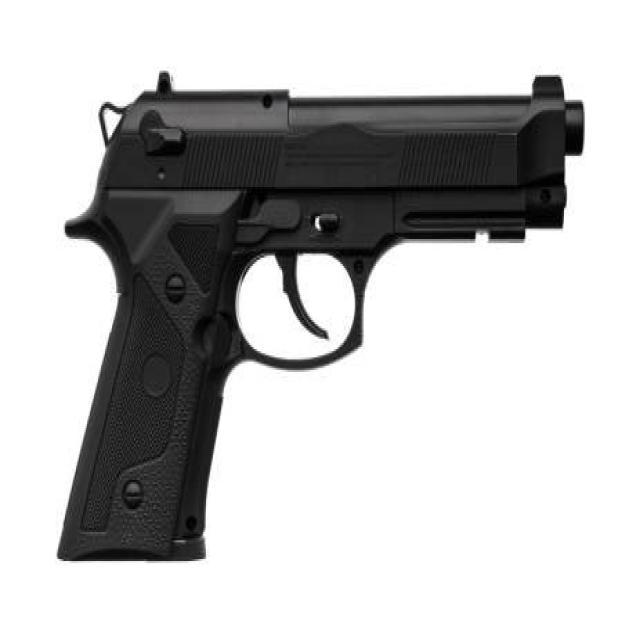pistol: (41, 64, 596, 574)
